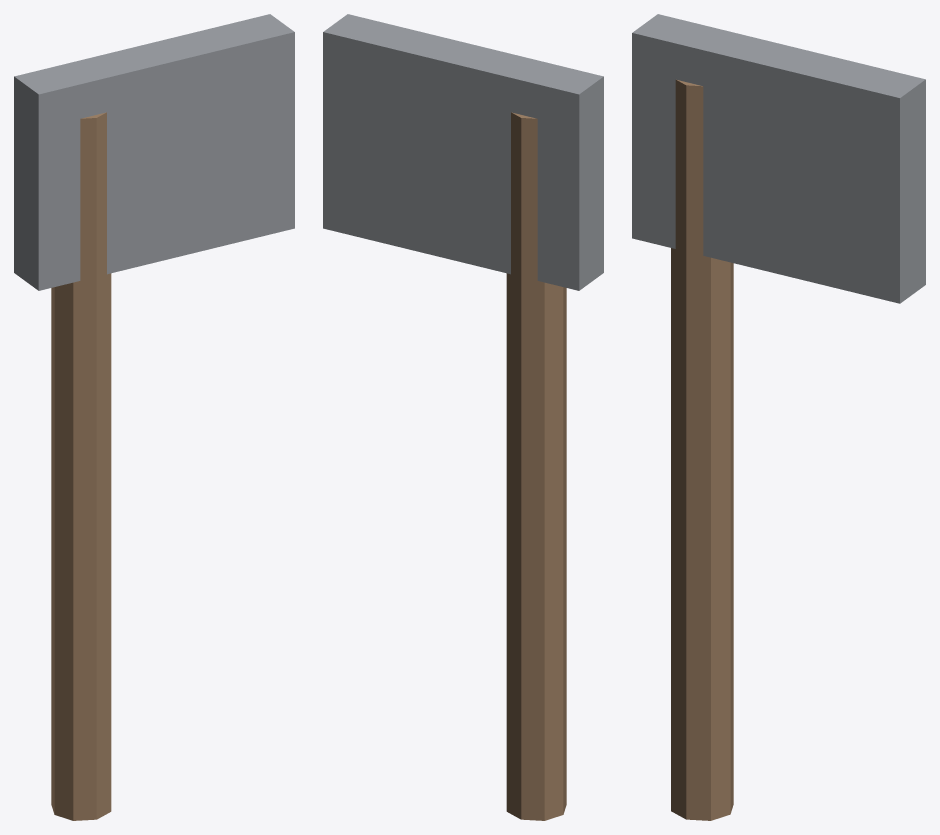
Rendered from hacha1.glb.
3 views of the same model, side by side, from view 1: azimuth 30°, elevation 25°; view 2: azimuth 150°, elevation 25°; view 3: azimuth 330°, elevation 25° (orthographic). The views are drawn at different scales.
Parts seen in each view (by area): view 1: ThrowingAxe; view 2: ThrowingAxe; view 3: ThrowingAxe.
Part boxes in pixels (x1=…): ThrowingAxe: x1=14, y1=14, x2=294, y2=820; ThrowingAxe: x1=323, y1=14, x2=603, y2=820; ThrowingAxe: x1=632, y1=14, x2=925, y2=820.
Bounding box in the file's own units: 0.21 × 0.577 × 0.044.
